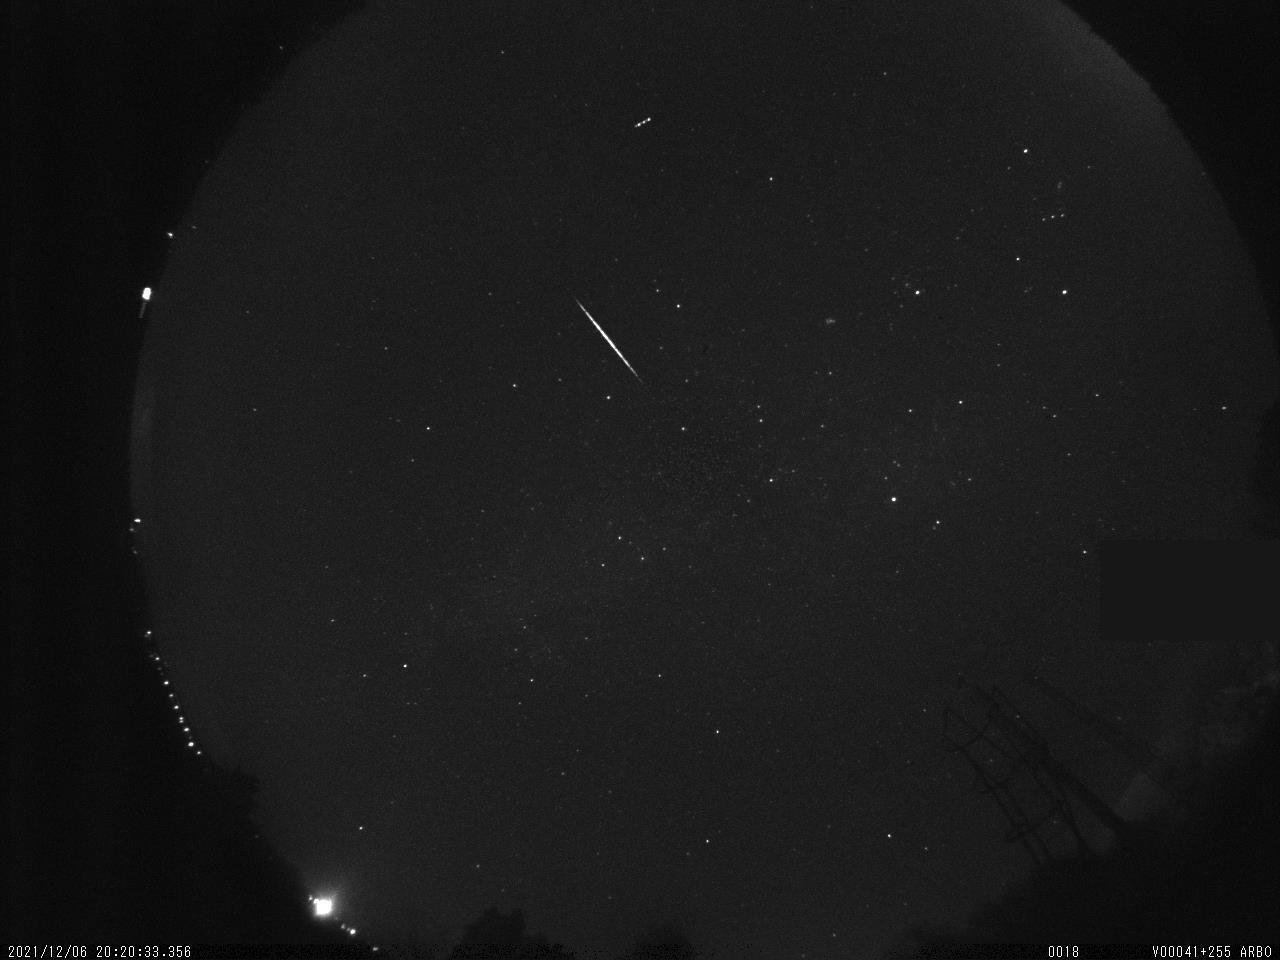meteor: (552, 277, 658, 392)
